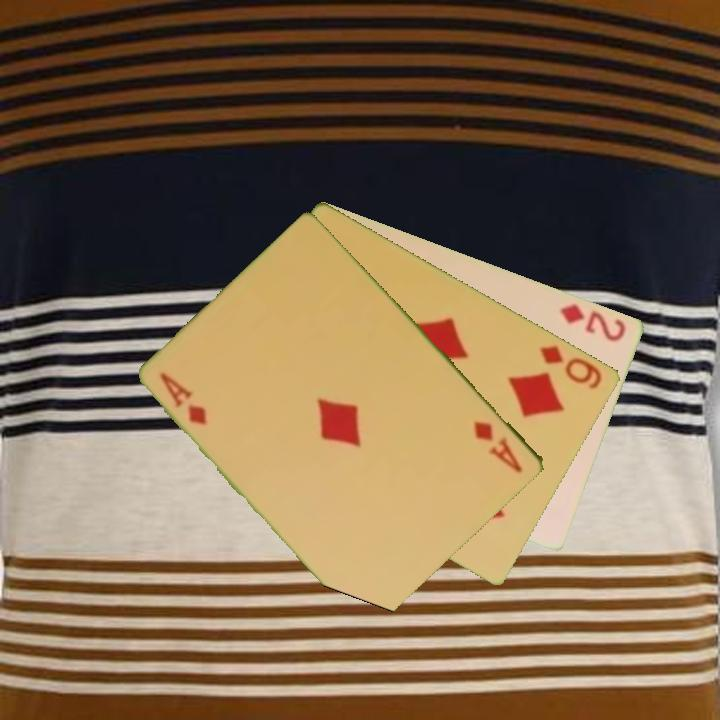2d: (557, 300, 630, 345)
6d: (536, 341, 606, 392)
Ad: (470, 417, 526, 476), (156, 369, 211, 428)
